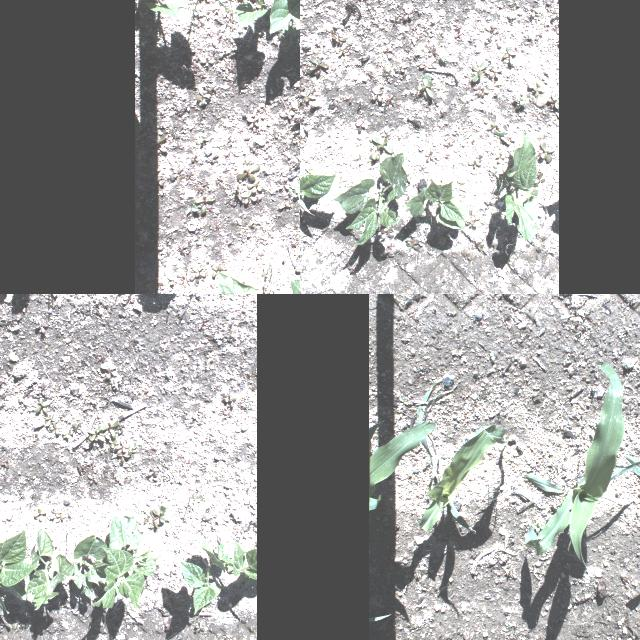crop: (523, 362, 640, 590), (417, 377, 507, 535), (333, 153, 409, 247), (368, 422, 436, 511), (25, 530, 75, 610), (0, 514, 39, 616), (504, 133, 540, 243), (404, 180, 474, 230), (180, 540, 227, 614), (90, 546, 144, 610), (109, 516, 160, 576), (72, 536, 111, 600), (205, 269, 300, 294), (300, 159, 336, 222), (228, 0, 293, 27), (217, 540, 257, 580), (135, 0, 191, 23), (369, 614, 389, 624)
weed: (240, 178, 262, 204), (372, 136, 393, 160), (150, 505, 170, 529), (194, 193, 216, 213), (236, 164, 260, 182), (420, 74, 434, 100), (308, 56, 328, 74), (492, 132, 516, 146), (529, 79, 547, 97), (481, 484, 499, 502), (189, 264, 205, 284), (502, 45, 518, 65), (472, 60, 486, 82), (194, 86, 210, 104), (88, 424, 104, 442), (101, 422, 119, 438), (34, 398, 50, 414), (542, 142, 556, 160), (100, 364, 118, 378), (498, 174, 510, 194), (532, 172, 546, 188), (190, 495, 204, 511), (10, 618, 28, 630), (225, 392, 238, 408), (489, 64, 503, 78), (405, 239, 419, 253), (44, 411, 56, 427), (48, 422, 64, 434), (532, 520, 546, 532), (300, 90, 315, 101), (514, 96, 530, 106), (418, 62, 434, 72), (356, 118, 366, 134), (327, 26, 338, 40), (116, 441, 130, 452), (115, 451, 129, 462), (288, 186, 300, 198), (550, 92, 558, 110), (494, 152, 506, 164), (489, 167, 501, 179), (34, 508, 46, 520), (337, 44, 347, 58), (394, 62, 408, 72), (372, 87, 382, 101), (424, 148, 434, 162), (379, 229, 393, 239), (368, 154, 378, 168), (68, 425, 82, 435), (466, 160, 482, 168), (335, 35, 347, 45), (385, 94, 395, 106), (346, 92, 356, 104), (354, 152, 364, 164), (474, 242, 486, 252), (38, 382, 48, 394), (128, 442, 138, 454), (148, 466, 160, 476), (50, 509, 62, 519), (196, 621, 206, 633), (476, 89, 489, 98), (295, 257, 300, 277), (530, 7, 540, 17), (470, 218, 480, 228), (100, 429, 110, 439), (88, 474, 98, 484), (399, 396, 409, 406), (439, 50, 448, 61), (487, 122, 499, 130), (460, 253, 472, 261), (429, 46, 438, 56), (109, 438, 118, 448), (404, 10, 412, 20), (22, 390, 32, 398), (78, 461, 86, 471), (1, 459, 9, 469), (56, 514, 66, 522), (300, 134, 306, 144), (90, 458, 96, 468), (405, 237, 411, 246), (62, 432, 70, 438), (144, 516, 150, 524), (104, 464, 110, 472), (490, 353, 494, 361), (220, 637, 230, 640), (0, 378, 3, 385)
